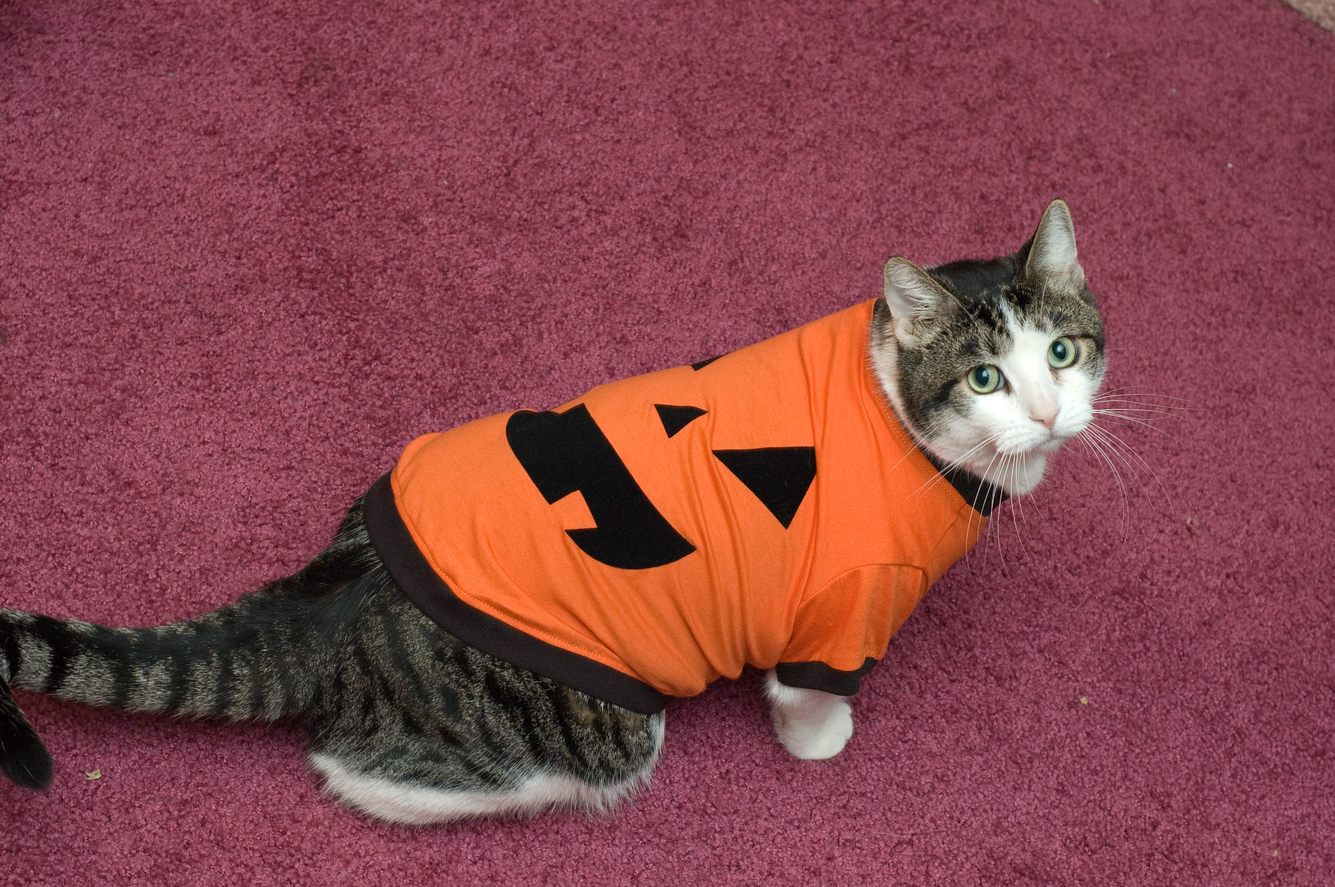cat: (0, 199, 1190, 829)
